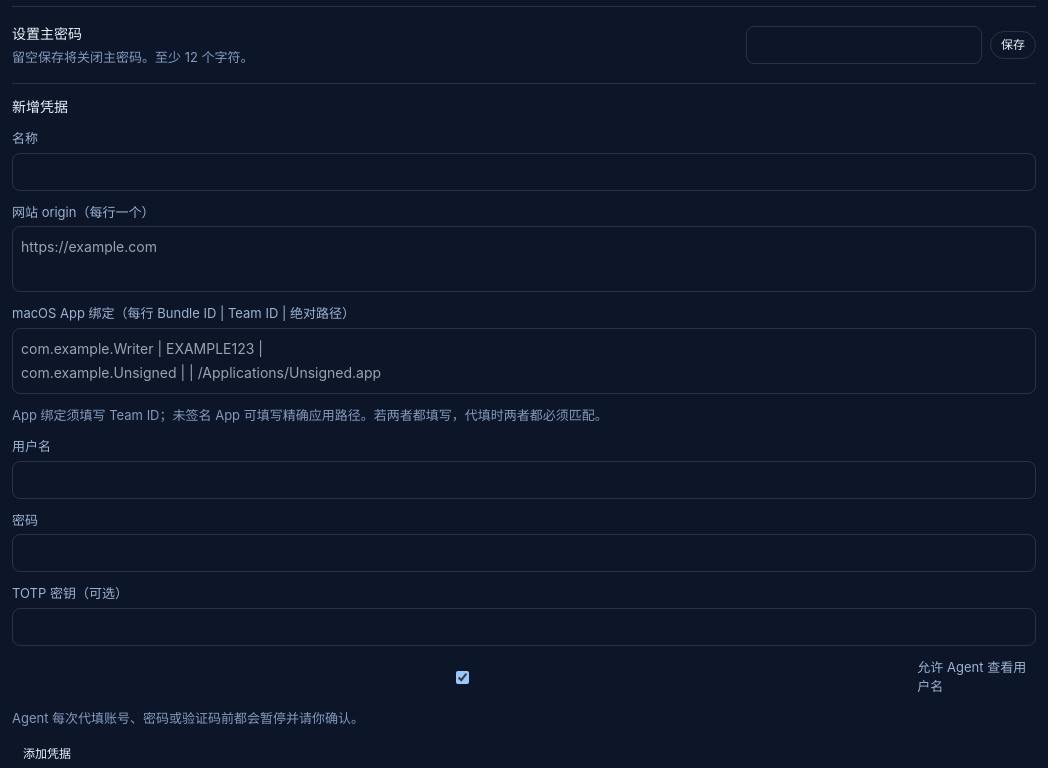
Test case: credential vault settings › warns that a TOTP secret beside the password leaves one factor
(page scrolled)
Check: the text "两步验证就退化成了一步" is not shown
Type "JBSWY3DPEHPK3PXP" into the password field labelled "TOTP 密钥（可选）" at (524, 626), box [12,608,1036,646]
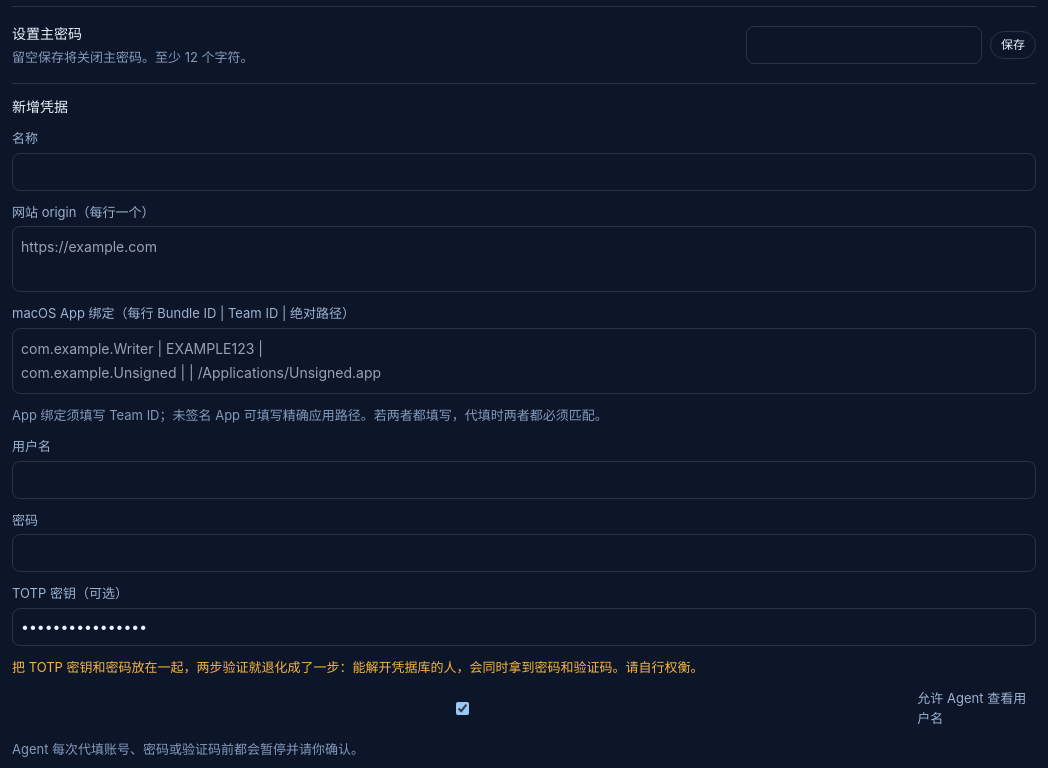
Check: the text "把 TOTP 密钥和密码放在一起，两步验证就退化成了一步：能解开凭据库的人，会同时拿到密码和验证码。请自行权衡。" is shown, box [12,658,704,674]
